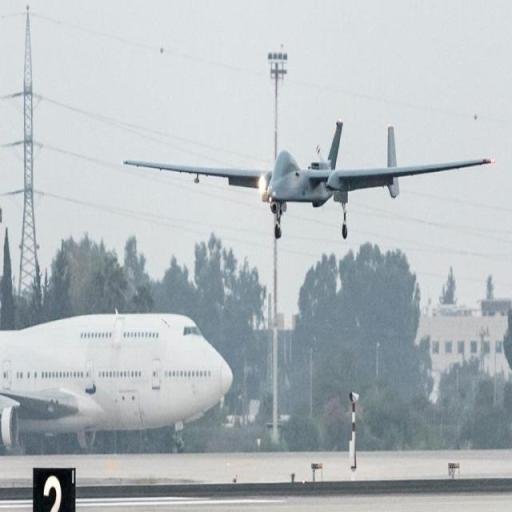uav: (110, 116, 498, 224)
